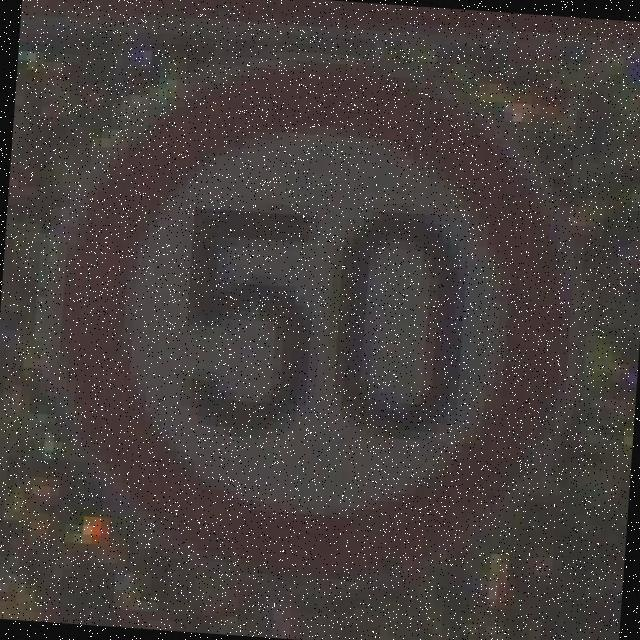Ograniczenie predkosci do 50: (38, 41, 584, 594)
